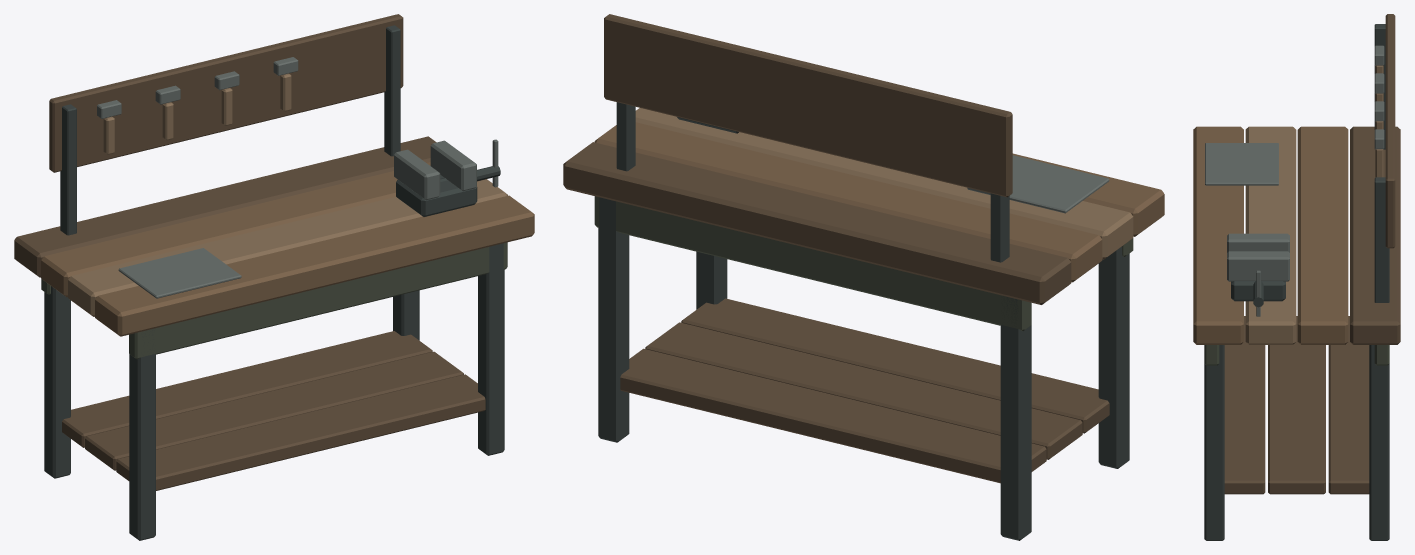
The model's file is Workbench01.fbx.
The picture shows the model from 3 angles, left to right: view 1: azimuth 30°, elevation 25°; view 2: azimuth 150°, elevation 25°; view 3: azimuth 270°, elevation 25°; orthographic projection. The views are drawn at different scales.
Visible parts, largest first — view 1: Tool_Rack, Top_Plank, Lower_Shelf, Top_Plank.003, Lower_Shelf.001, Lower_Shelf.002, Apron, Top_Plank.002, Top_Plank.001, Leg.002, Leg, Leg.001 (+7 smaller); view 2: Tool_Rack, Top_Plank.003, Lower_Shelf.002, Top_Plank.002, Lower_Shelf.001, Lower_Shelf, Apron.001, Top_Plank.001, Leg.003, Leg.001, Leg, Repair_Sheet (+4 smaller); view 3: Top_Plank.002, Lower_Shelf.001, Top_Plank, Top_Plank.003, Top_Plank.001, Lower_Shelf, Lower_Shelf.002, Leg.002, Leg.003, Repair_Sheet, Tool_Rack, Vise_Jaw.001 (+6 smaller).
Part boxes in pixels (<box>): Tool_Rack: <box>49,14,403,172</box>; Top_Plank: <box>95,195,534,336</box>; Lower_Shelf: <box>116,374,485,490</box>; Top_Plank.003: <box>14,136,436,277</box>; Lower_Shelf.001: <box>85,351,463,470</box>; Lower_Shelf.002: <box>62,331,432,447</box>; Apron: <box>129,242,507,359</box>; Top_Plank.002: <box>41,162,430,297</box>; Top_Plank.001: <box>68,179,507,316</box>; Leg.002: <box>478,243,504,455</box>; Leg: <box>129,328,155,540</box>; Leg.001: <box>44,286,70,478</box>; Tool_Rack: <box>604,14,1012,197</box>; Top_Plank.003: <box>563,142,1071,304</box>; Lower_Shelf.002: <box>620,348,1046,483</box>; Top_Plank.002: <box>594,122,1102,282</box>; Lower_Shelf.001: <box>645,322,1082,459</box>; Lower_Shelf: <box>681,298,1109,433</box>; Apron.001: <box>594,196,1031,331</box>; Top_Plank.001: <box>635,108,1133,259</box>; Leg.003: <box>598,197,629,442</box>; Leg.001: <box>1000,296,1031,540</box>; Leg: <box>1098,246,1129,468</box>; Repair_Sheet: <box>967,155,1109,213</box>; Top_Plank.002: <box>1297,126,1348,344</box>; Lower_Shelf.001: <box>1268,316,1325,494</box>; Top_Plank: <box>1193,126,1243,344</box>; Top_Plank.003: <box>1350,126,1400,344</box>; Top_Plank.001: <box>1245,126,1296,344</box>; Lower_Shelf: <box>1224,316,1265,494</box>; Lower_Shelf.002: <box>1328,316,1369,494</box>; Leg.002: <box>1204,345,1224,540</box>; Leg.003: <box>1369,345,1389,540</box>; Repair_Sheet: <box>1205,143,1278,185</box>; Tool_Rack: <box>1385,14,1395,248</box>; Vise_Jaw.001: <box>1227,251,1289,281</box>.
Size of the model in its own units: 170 by 144 by 75.4.
